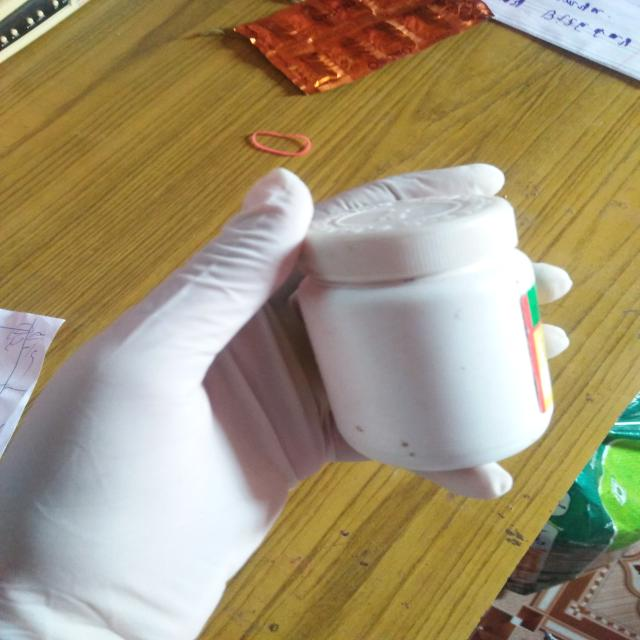glove: (2, 163, 572, 640)
